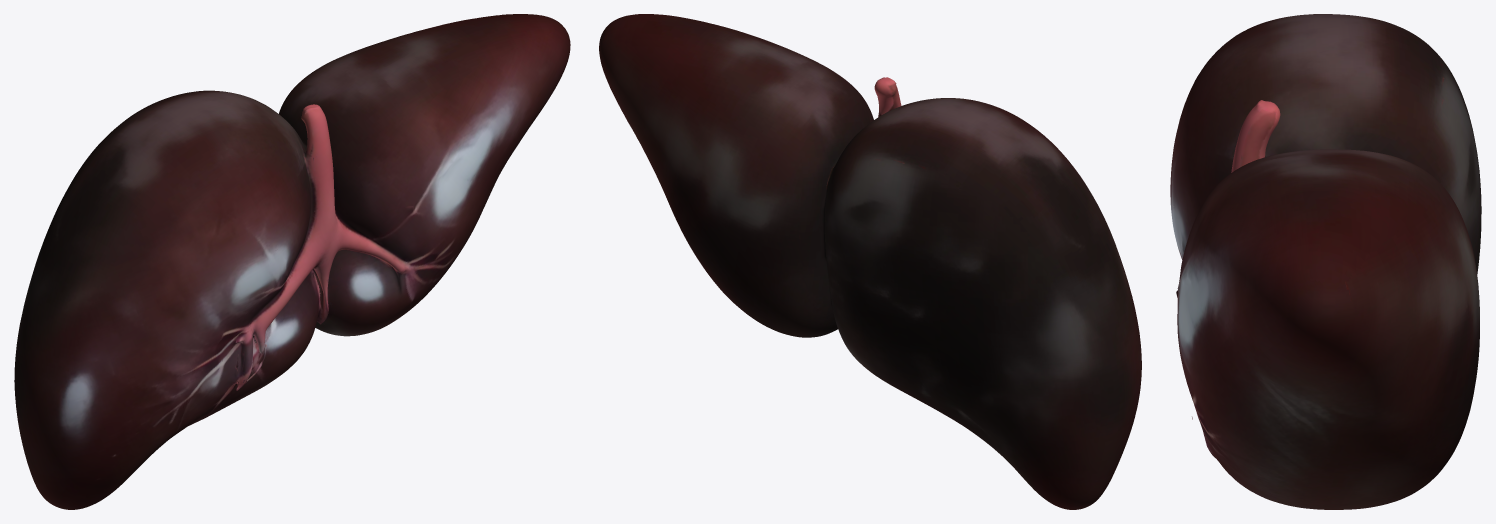
Rendered from horse_liver.glb.
3 views of the same model, side by side, from view 1: azimuth 30°, elevation 25°; view 2: azimuth 150°, elevation 25°; view 3: azimuth 270°, elevation 25° (orthographic). The views are drawn at different scales.
Parts seen in each view (by area): view 1: model; view 2: model; view 3: model.
Boxes of the visible parts, x1,y1,x2,y2 form: model: (14,14,570,509); model: (599,14,1141,509); model: (1170,14,1481,509).
Bounding box in the file's own units: 1.9 × 1.31 × 0.653.
1 material, 1 textured.
